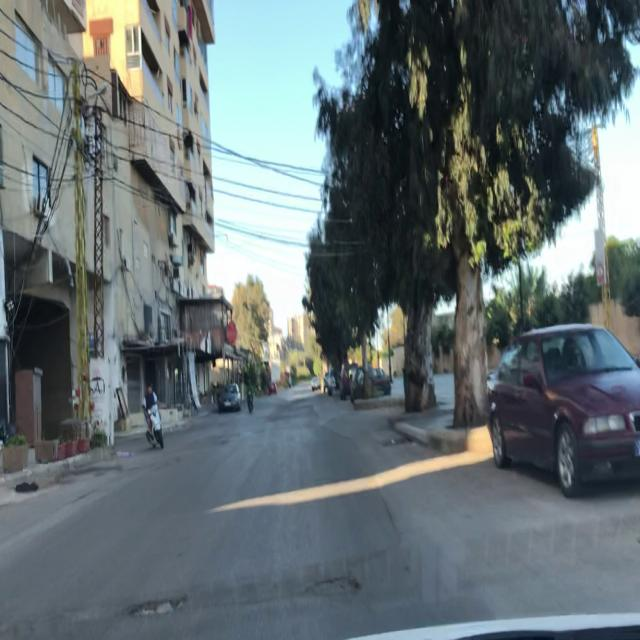Pothole: (295, 565, 364, 605), (125, 591, 190, 624)
